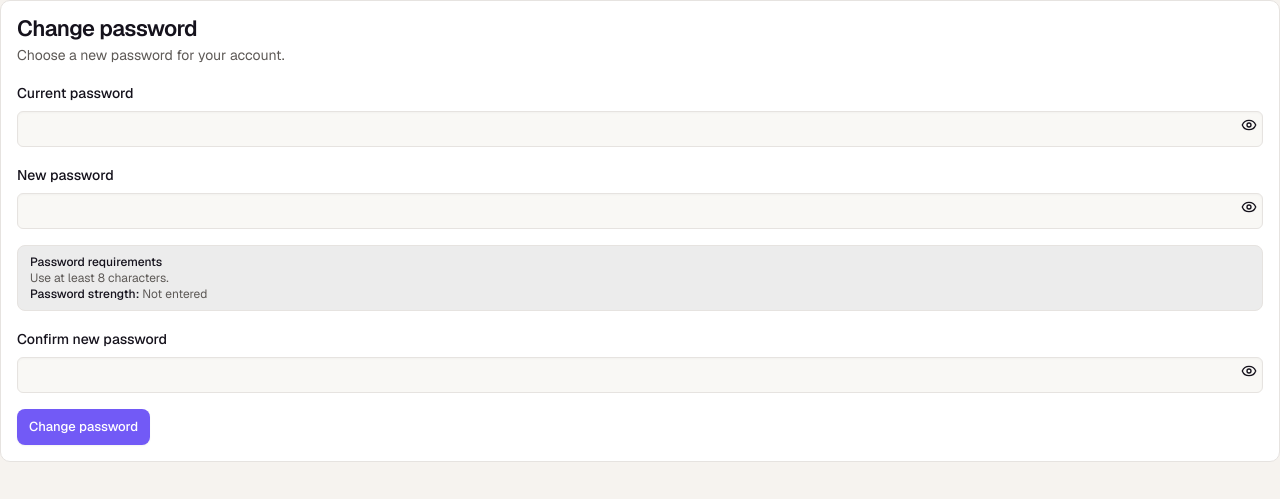
Test: PasswordSetupForm › requests reauthentication, preserves the new password, and retries with a six-digit nonce
Later steps or results of the test are not shown.
In the password field labelled "Current password": x=640, y=129 [17,111,1263,147], type "old-secret"
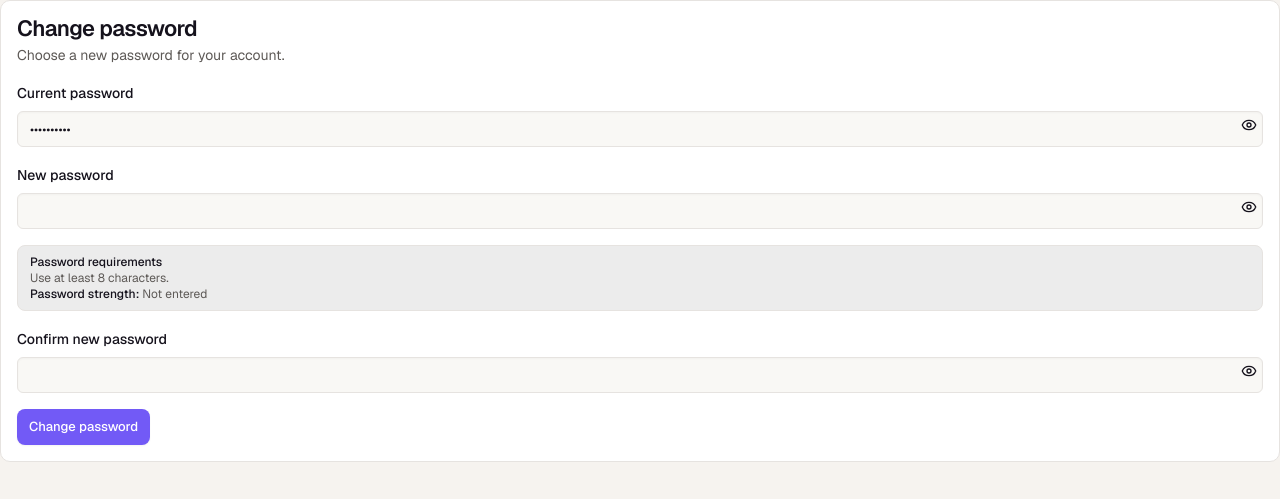
In the password field labelled "New password": x=640, y=211 [17,193,1263,229], type "new-secret"
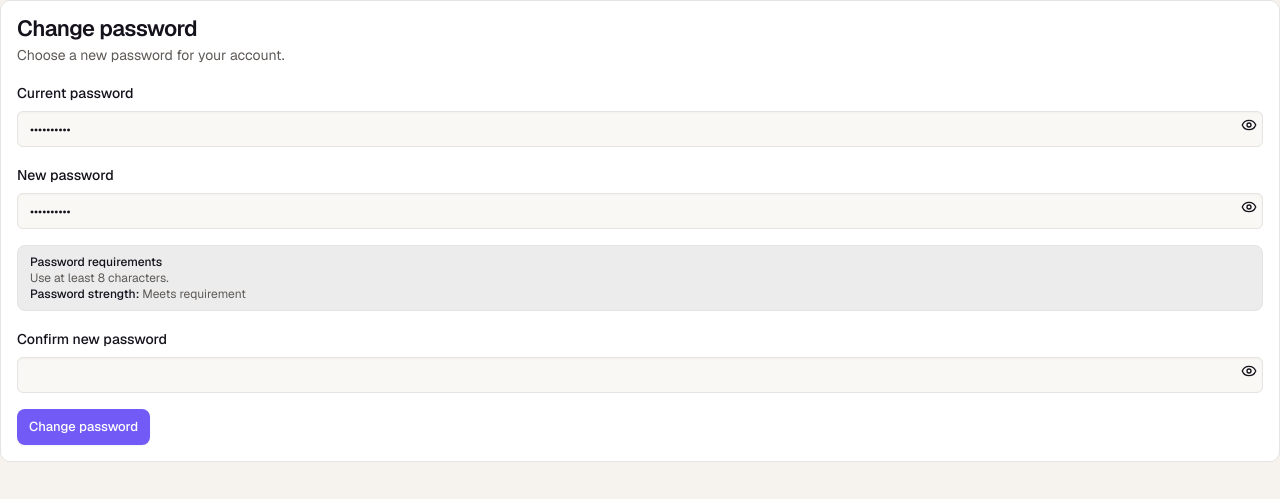
In the password field labelled "Confirm new password": x=640, y=375 [17,357,1263,393], type "new-secret"
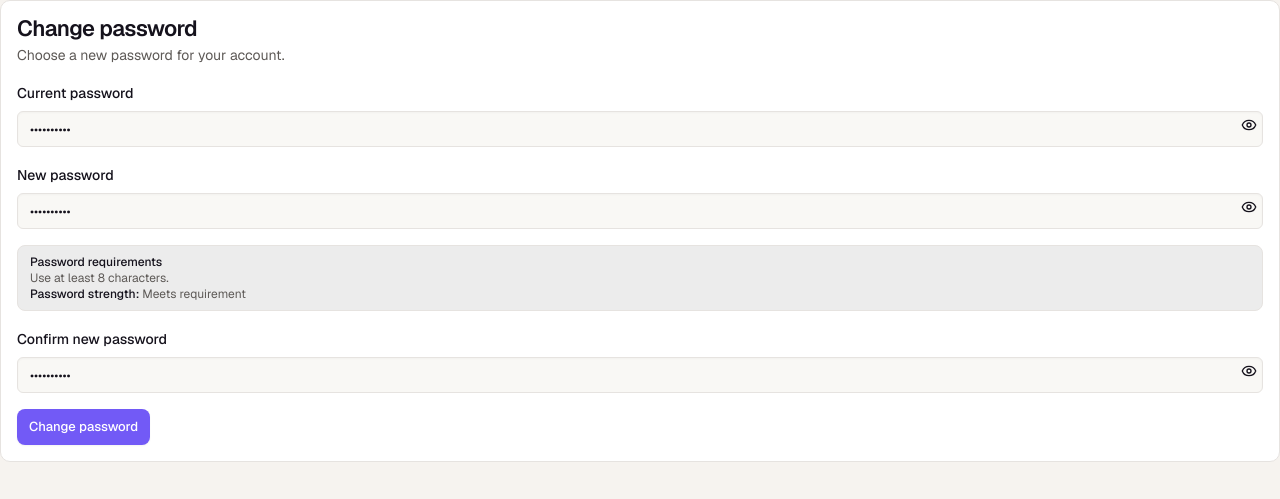
Click the button "Change password": x=84, y=427 [17,409,150,445]
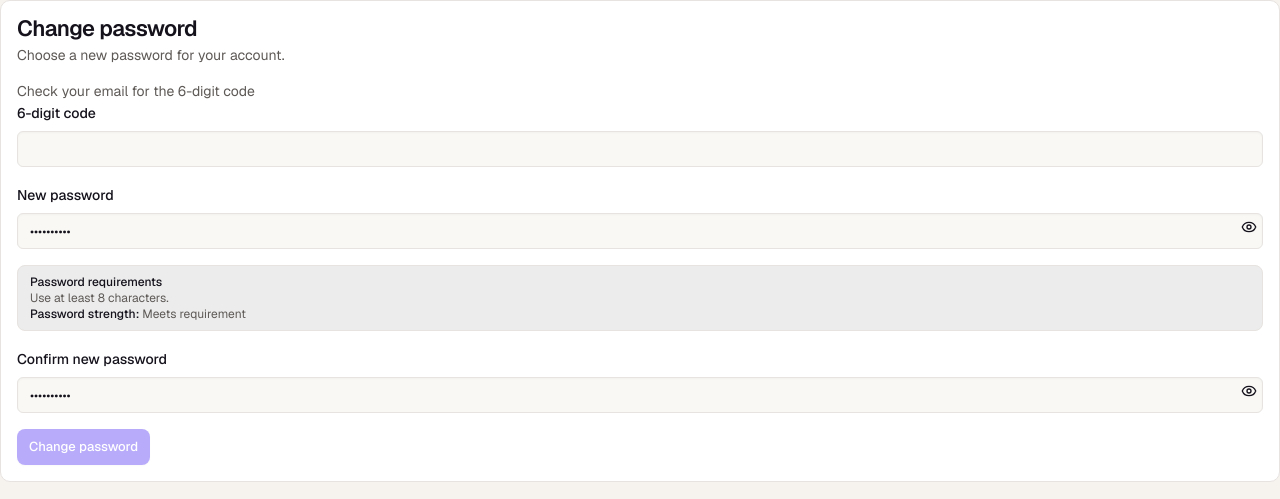
Check: the text "Check your email for the 6-digit code" is shown, box [17,82,255,100]
